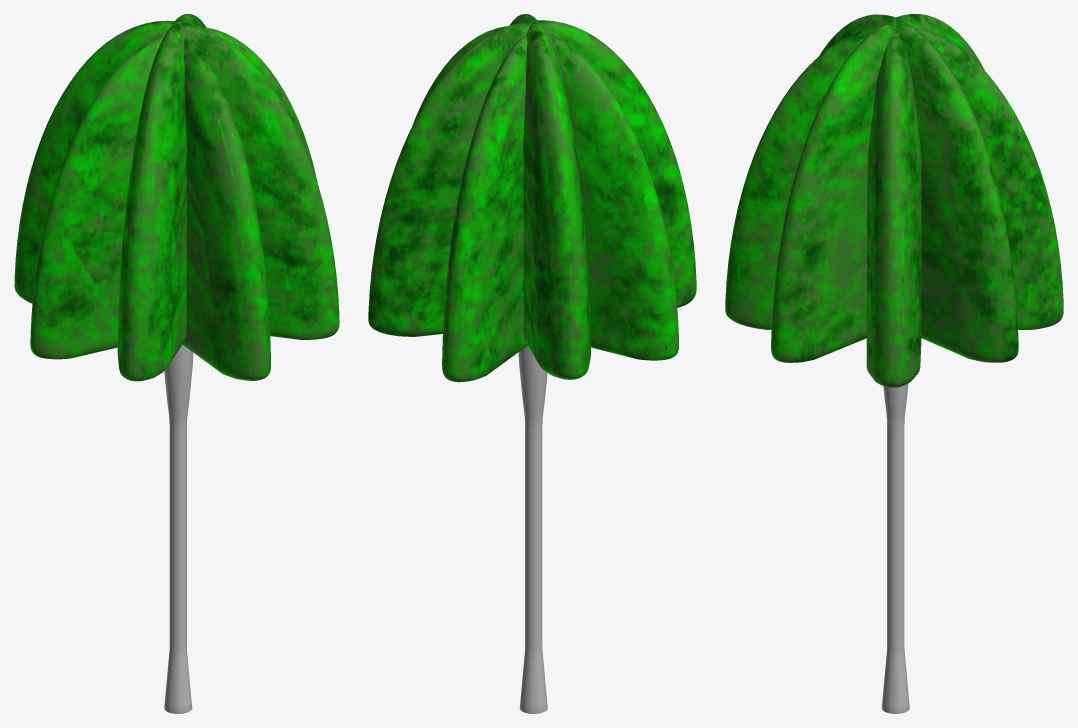
Rendered from m_tree5.fbx.
3 renders of one model, left to right at view 1: azimuth 30°, elevation 25°; view 2: azimuth 150°, elevation 25°; view 3: azimuth 270°, elevation 25°, orthographic.
Visible parts, largest first — view 1: Leaves, Trunk; view 2: Leaves, Trunk; view 3: Leaves, Trunk.
Boxes of the visible parts, bbox=[...] form: Leaves: bbox=[14, 14, 339, 381]; Trunk: bbox=[164, 345, 193, 713]; Leaves: bbox=[368, 14, 696, 382]; Trunk: bbox=[518, 345, 547, 713]; Leaves: bbox=[725, 14, 1063, 387]; Trunk: bbox=[881, 384, 909, 713].
Size of the model in its own units: 3.07 by 6.89 by 3.07.
